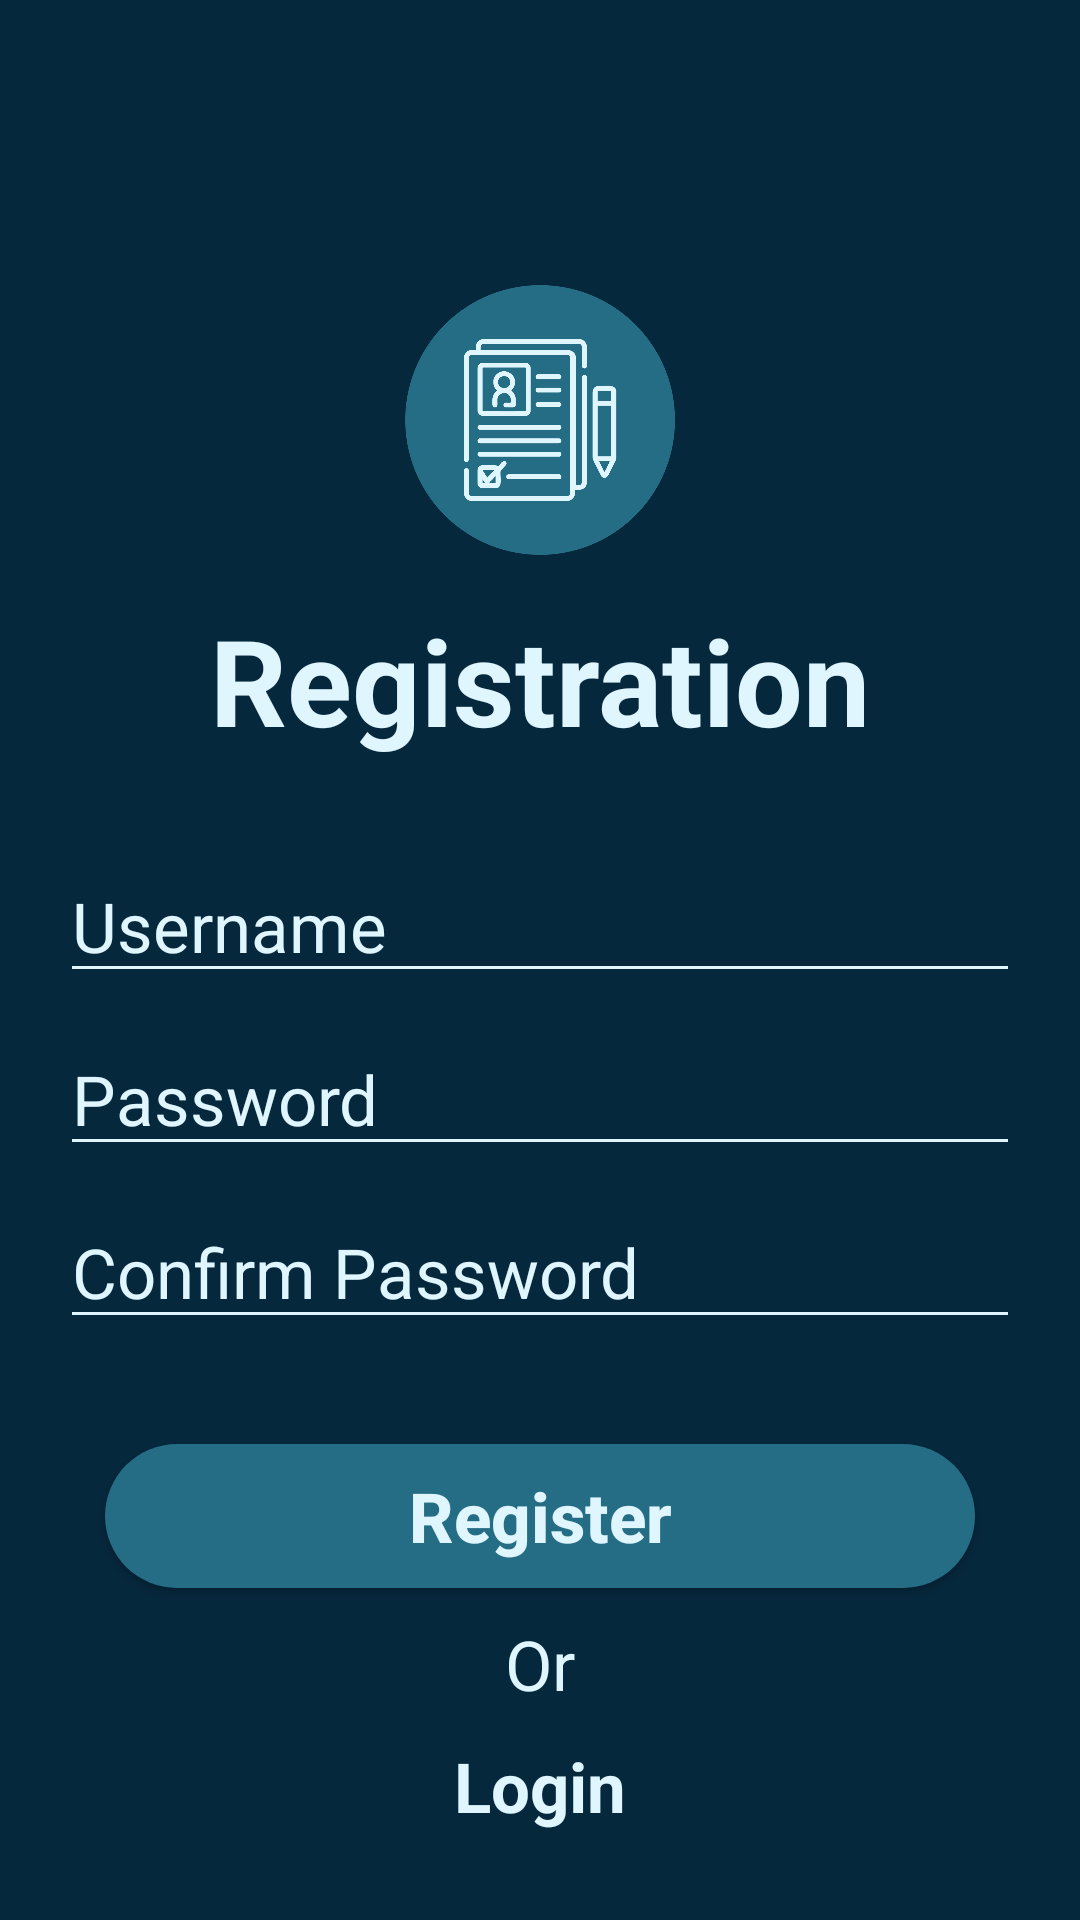

Named icons in this screenshot (1080w x 1920h) and their bounding boxes, (left=x1, top=y1, right=x2, bottom=y2):
regisgelap: (left=405, top=285, right=675, bottom=555)
